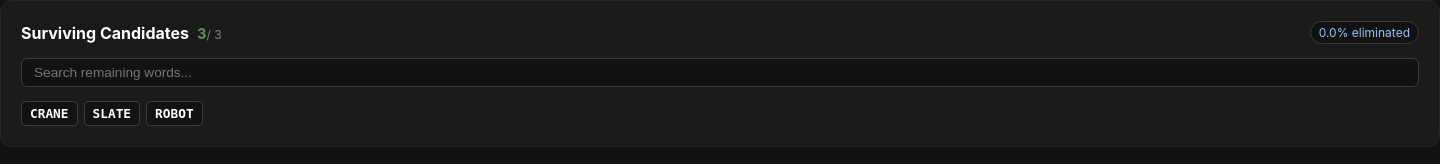
it: Web UI Components Specification Tests › CandidateViewer Component › Filters candidate chips using search input
Step 1. Type "ROB" into the field named "Filter remaining candidate words" → [720, 72], box [21,58,1419,87]
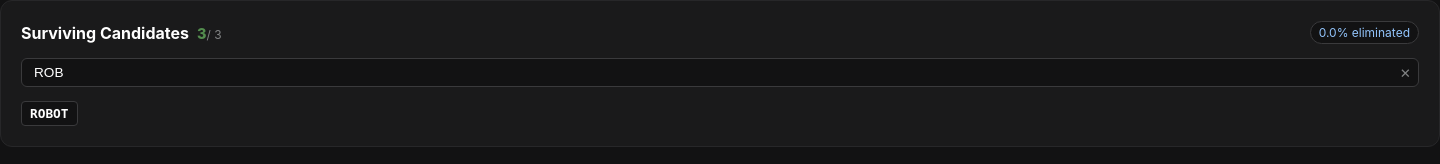
Expected: the list item "ROBOT" is shown, [21,101,78,126]
Expected: the list item "CRANE" is gone
Expected: the list item "SLATE" is gone
